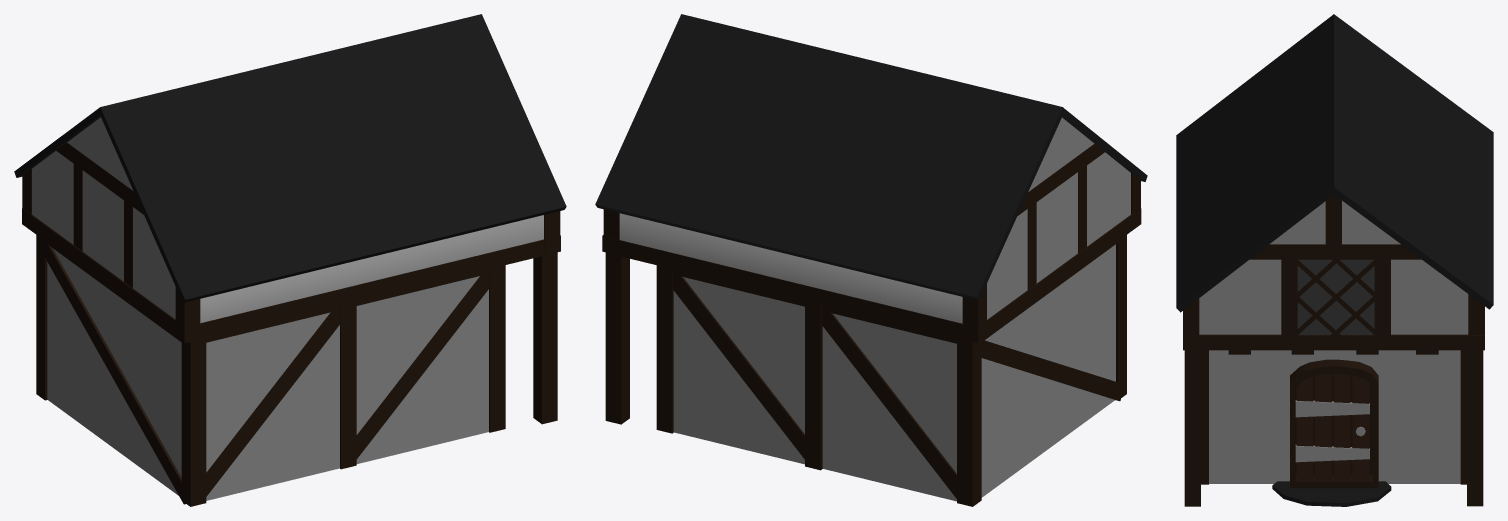
File: House1.fbx
3 views of the same model, side by side, from view 1: azimuth 30°, elevation 25°; view 2: azimuth 150°, elevation 25°; view 3: azimuth 270°, elevation 25° (orthographic). The views are drawn at different scales.
Visible parts, largest first — view 1: pCube57; view 2: pCube57; view 3: pCube57.
Boxes of the visible parts, x1,y1,x2,y2 form: pCube57: [14, 14, 566, 506]; pCube57: [595, 14, 1147, 506]; pCube57: [1176, 14, 1493, 506].
Bounding box in the file's own units: 16.79 × 14.68 × 13.03.
